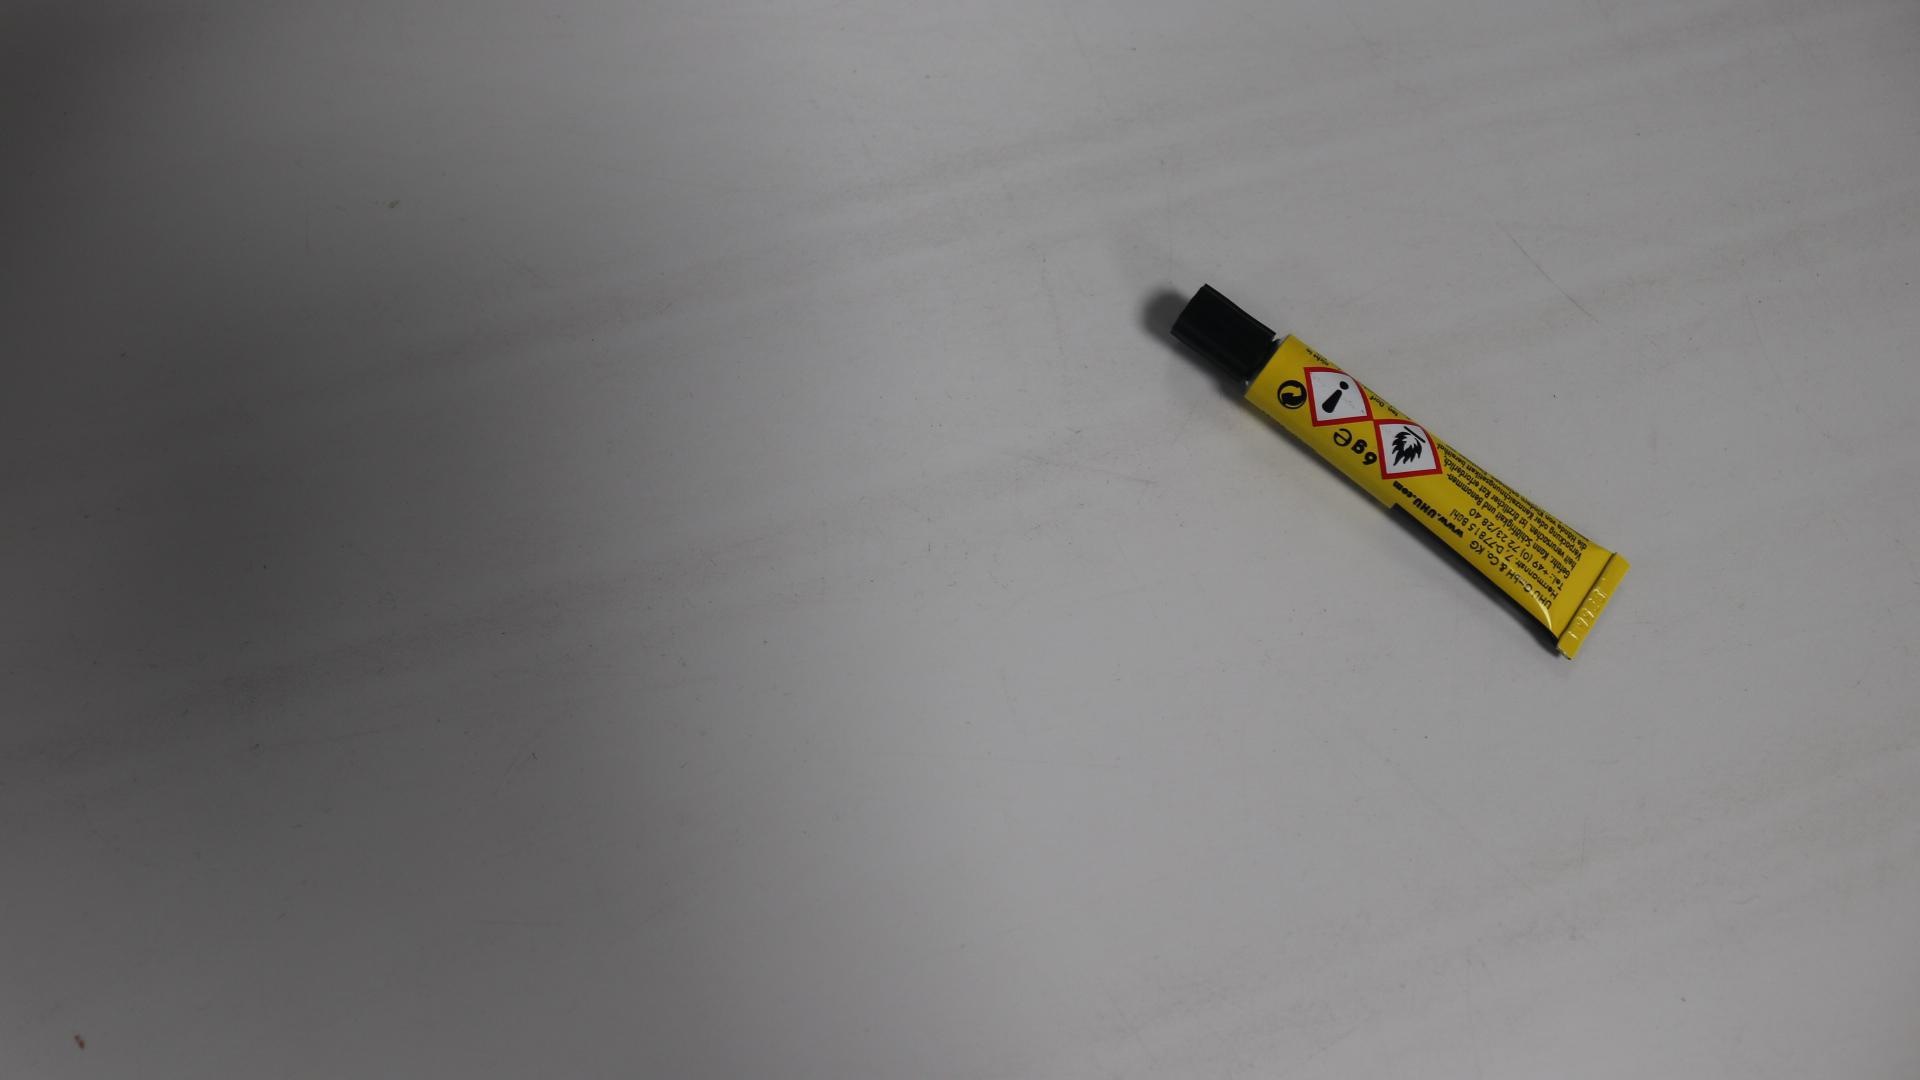Head: (1217, 328, 1231, 339)
Tail: (1586, 602, 1600, 616)
Tube: (1171, 285, 1632, 661)
